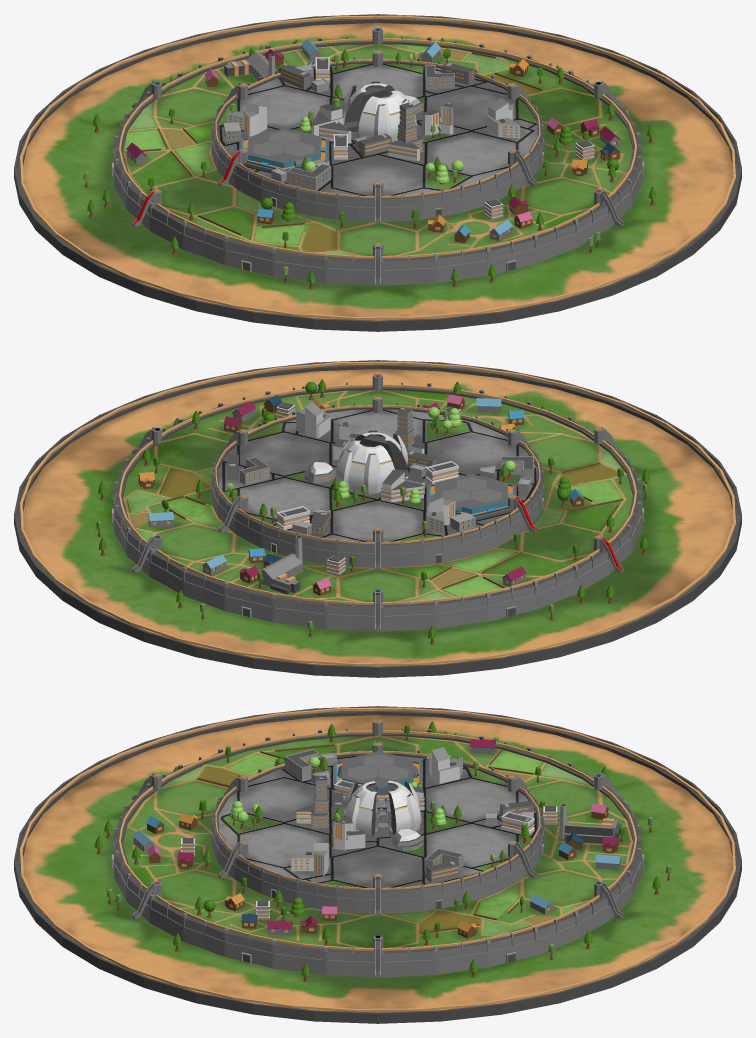
File: city 2.fbx
3 views of the same model, one above another, from view 1: azimuth 30°, elevation 25°; view 2: azimuth 150°, elevation 25°; view 3: azimuth 270°, elevation 25° (orthographic).
Parts seen in each view (by area): view 1: disc3, disc2, disc1, platform; view 2: disc3, disc2, disc1, platform; view 3: disc3, disc2, disc1, platform.
Boxes of the visible parts, x1,y1,x2,y2 form: disc3: [14, 14, 741, 331]; disc2: [112, 27, 643, 285]; disc1: [211, 49, 544, 224]; platform: [239, 128, 329, 172]; disc3: [14, 360, 741, 677]; disc2: [112, 373, 643, 631]; disc1: [211, 395, 544, 570]; platform: [426, 474, 516, 520]; disc3: [14, 706, 741, 1023]; disc2: [112, 719, 643, 977]; disc1: [211, 741, 544, 916]; platform: [333, 751, 422, 790].
Size of the model in its own units: 7.34 by 1.04 by 7.34.
